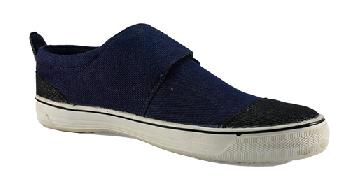Footwear: (21, 18, 332, 170)
